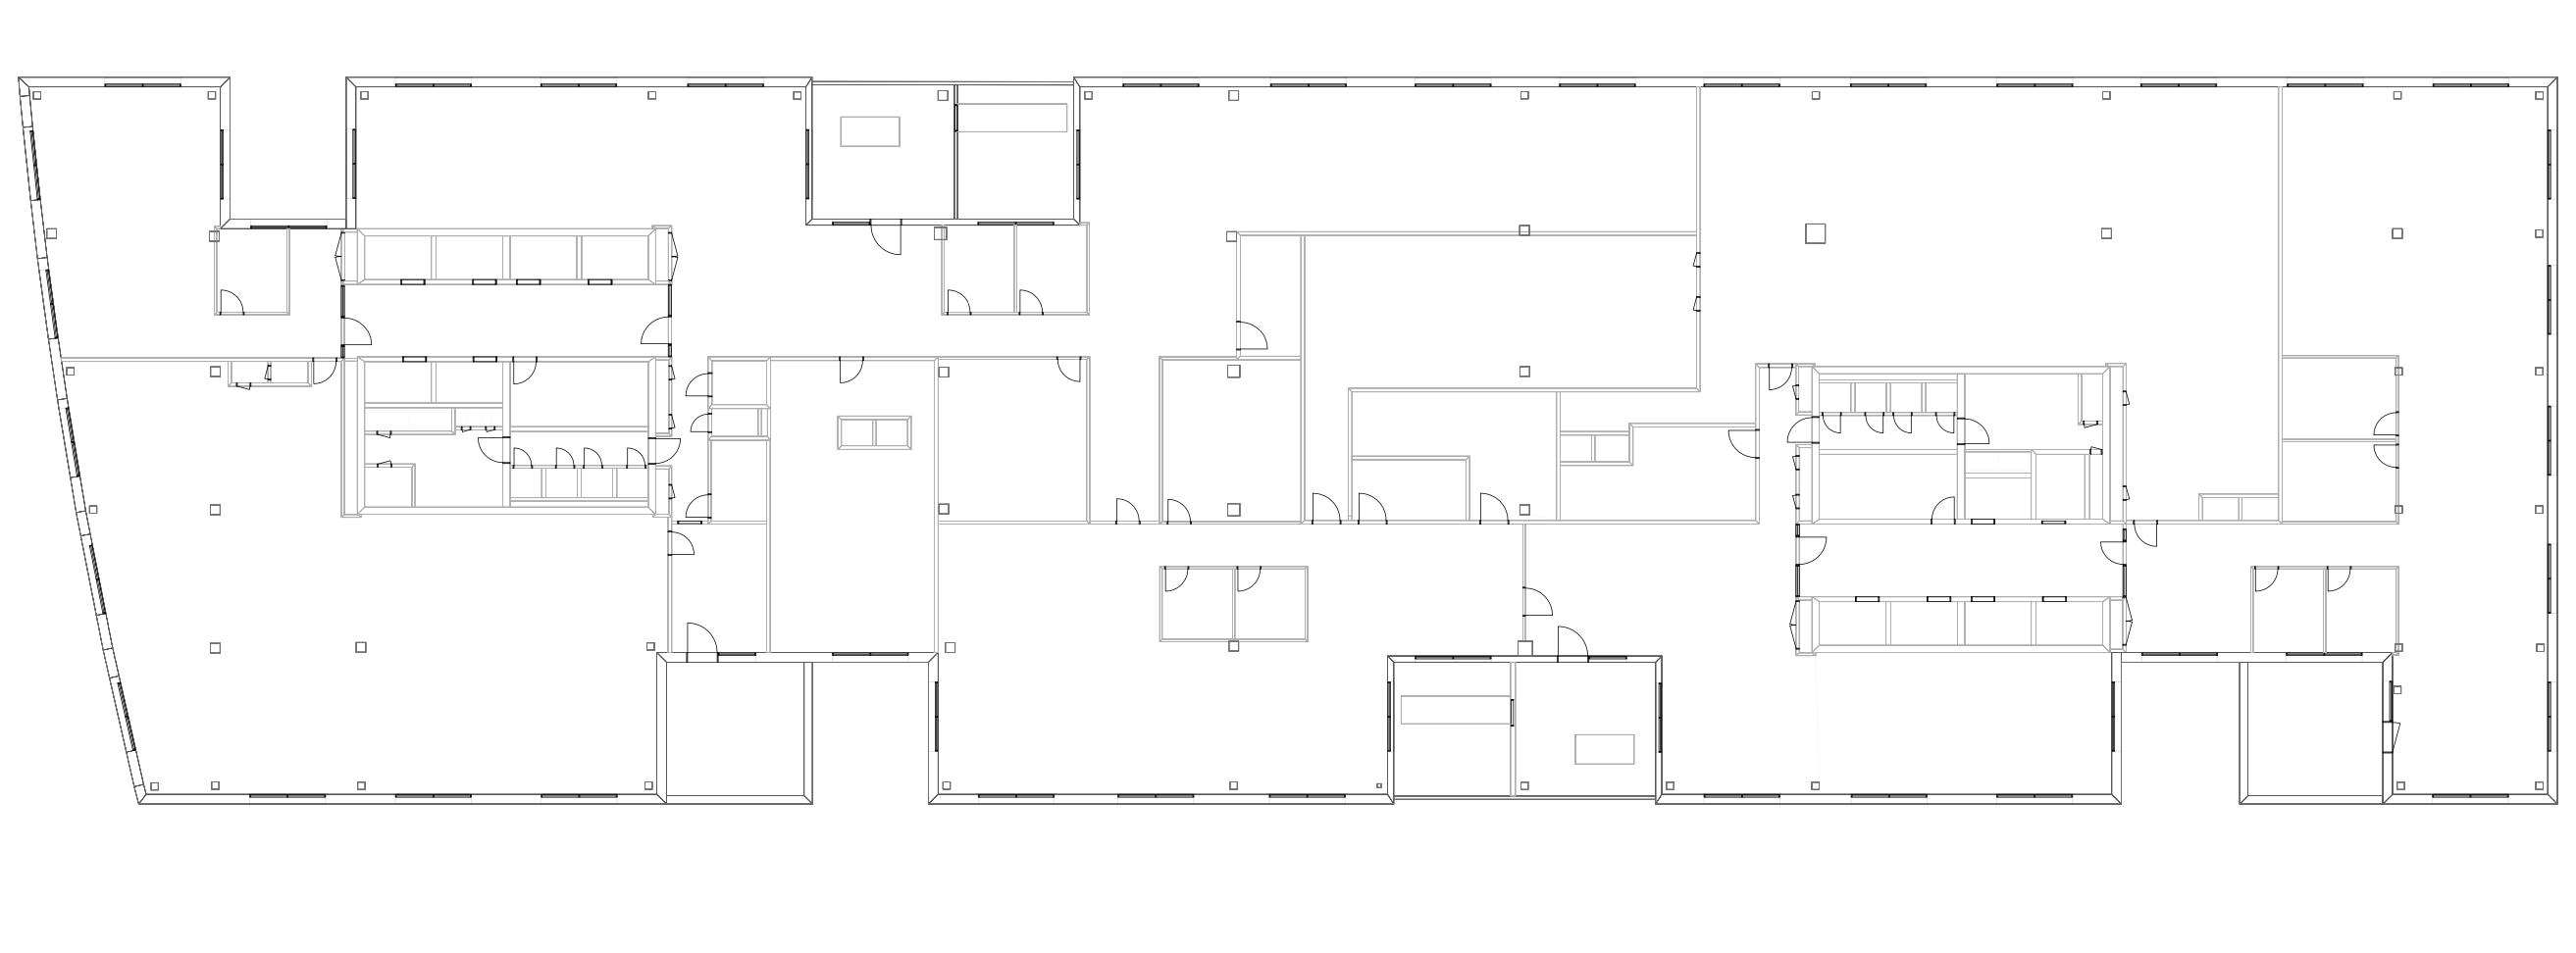room: (62, 360, 667, 794), (1525, 523, 2113, 795), (938, 523, 1523, 795), (1081, 85, 1695, 233), (30, 85, 343, 355), (770, 360, 935, 652), (938, 357, 1088, 521), (1799, 523, 2123, 596), (1161, 360, 1301, 521), (356, 357, 504, 508), (509, 355, 651, 503), (812, 84, 956, 219), (1516, 662, 1658, 795), (2247, 661, 2382, 797), (667, 662, 805, 795), (958, 84, 1074, 219), (1395, 662, 1511, 795), (672, 521, 767, 652), (1965, 371, 2101, 449), (2282, 440, 2399, 521), (2284, 357, 2397, 439), (1819, 452, 1958, 518), (2251, 565, 2325, 652), (943, 225, 1014, 312), (2328, 565, 2399, 651), (1017, 227, 1088, 312)
